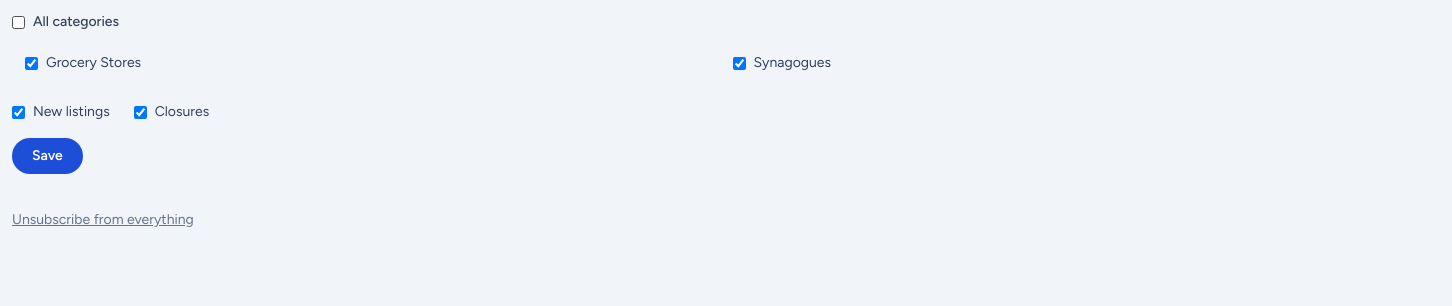
Scenario: ManageSubscriptionForm › saves a real replace, not a merge — unchecking a previously-selected category removes it
Click the text "Grocery Stores": click(94, 63) [46,53,141,73]
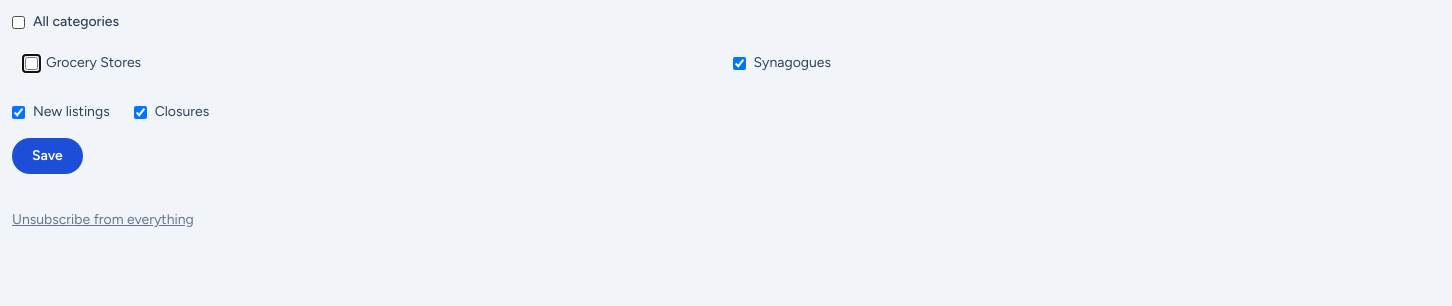
Click the button "Save": click(47, 156) [12,138,83,174]
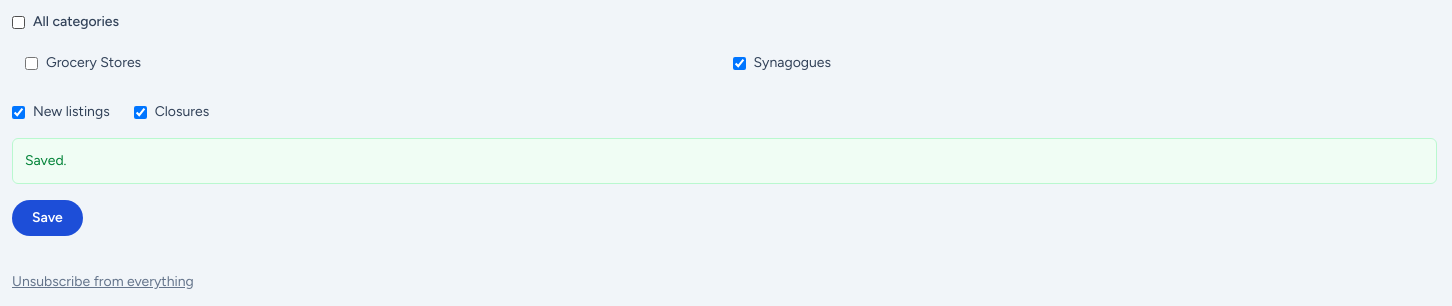
Check: the text "Saved." is shown, box [12,138,1437,184]
